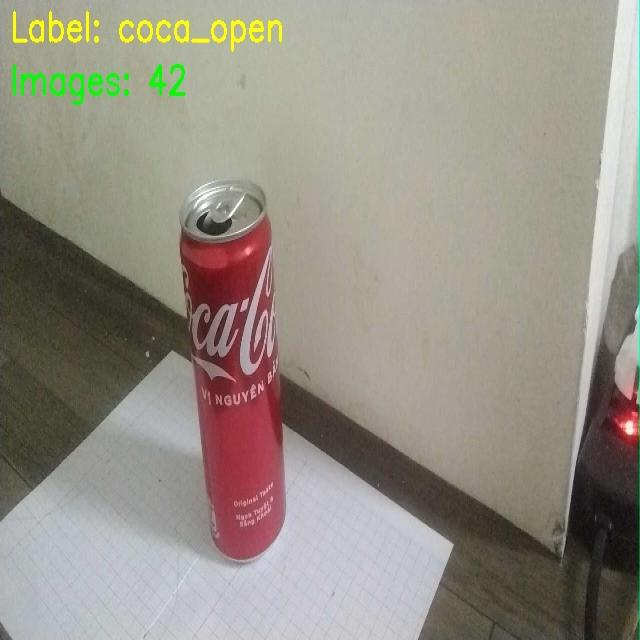Coca_open: (165, 167, 302, 567)
